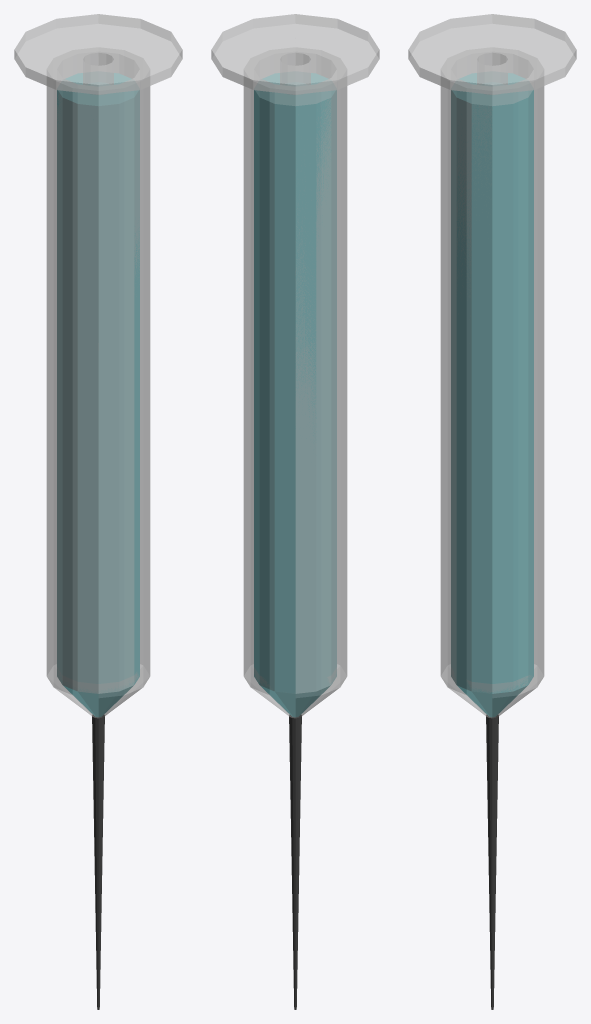
File: Syringe.fbx
3 views of the same model, side by side, from view 1: azimuth 30°, elevation 25°; view 2: azimuth 150°, elevation 25°; view 3: azimuth 270°, elevation 25° (orthographic).
Parts seen in each view (by area): view 1: Syringe, Syringe Liquid, Syringe Handle; view 2: Syringe, Syringe Liquid, Syringe Handle; view 3: Syringe, Syringe Liquid, Syringe Handle.
Part boxes in pixels (<box>): Syringe: <box>46,48,150,1009</box>; Syringe Liquid: <box>57,73,139,717</box>; Syringe Handle: <box>14,14,182,684</box>; Syringe: <box>243,48,347,1009</box>; Syringe Liquid: <box>254,73,336,717</box>; Syringe Handle: <box>211,14,379,686</box>; Syringe: <box>440,48,544,1009</box>; Syringe Liquid: <box>451,73,533,717</box>; Syringe Handle: <box>408,14,576,692</box>.
Bounding box in the file's own units: 0.1555 × 0.98 × 0.1555.
